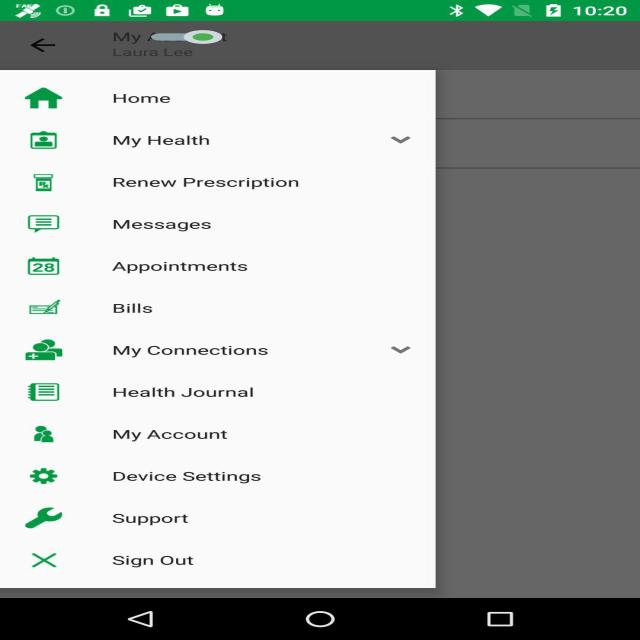social proof: (151, 24, 222, 50)
